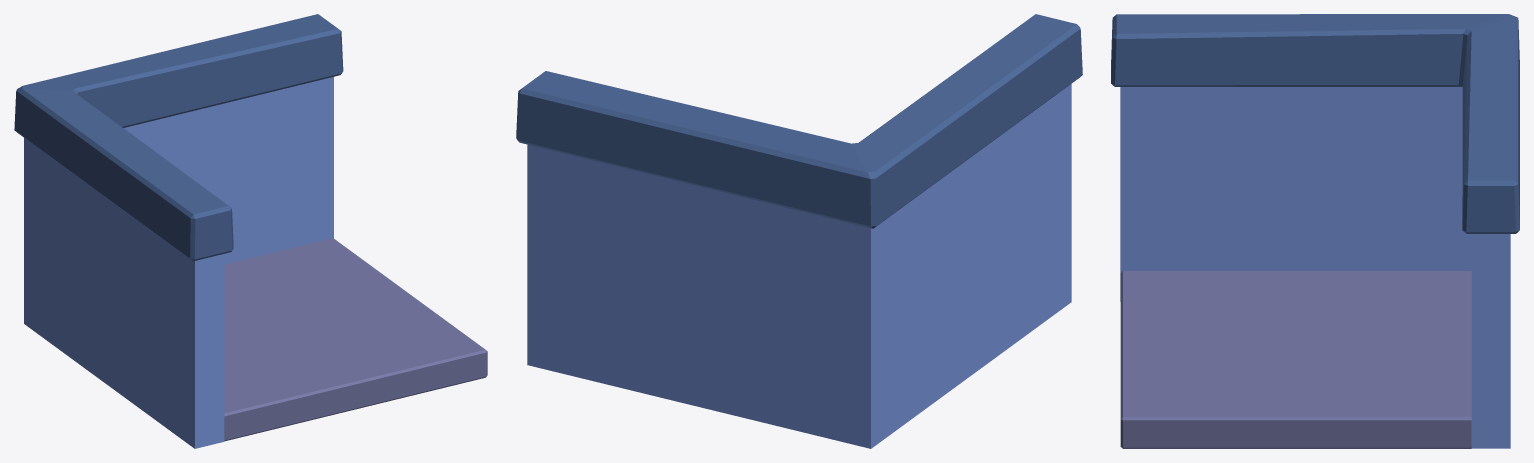
File: room.fbx
The picture shows the model from 3 angles, left to right: view 1: azimuth 30°, elevation 25°; view 2: azimuth 150°, elevation 25°; view 3: azimuth 270°, elevation 25°; orthographic projection. The views are drawn at different scales.
Visible parts, largest first — view 1: Cube.189, Plane.009; view 2: Cube.189; view 3: Cube.189, Plane.009.
Boxes of the visible parts, x1=… form: Cube.189: x1=14, y1=14, x2=343, y2=448; Plane.009: x1=224, y1=238, x2=487, y2=441; Cube.189: x1=516, y1=14, x2=1082, y2=448; Cube.189: x1=1111, y1=14, x2=1519, y2=448; Plane.009: x1=1120, y1=271, x2=1471, y2=448.
Bounding box in the file's own units: 518 × 387 × 523.
